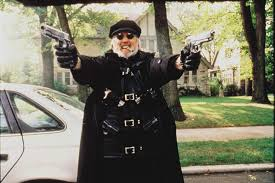Gun: (32, 20, 73, 51), (184, 24, 220, 55)
